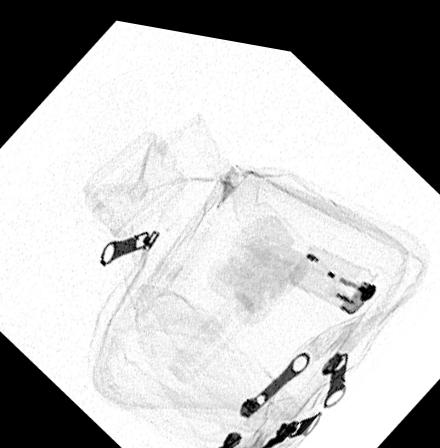Lighter: (289, 233, 379, 302)
